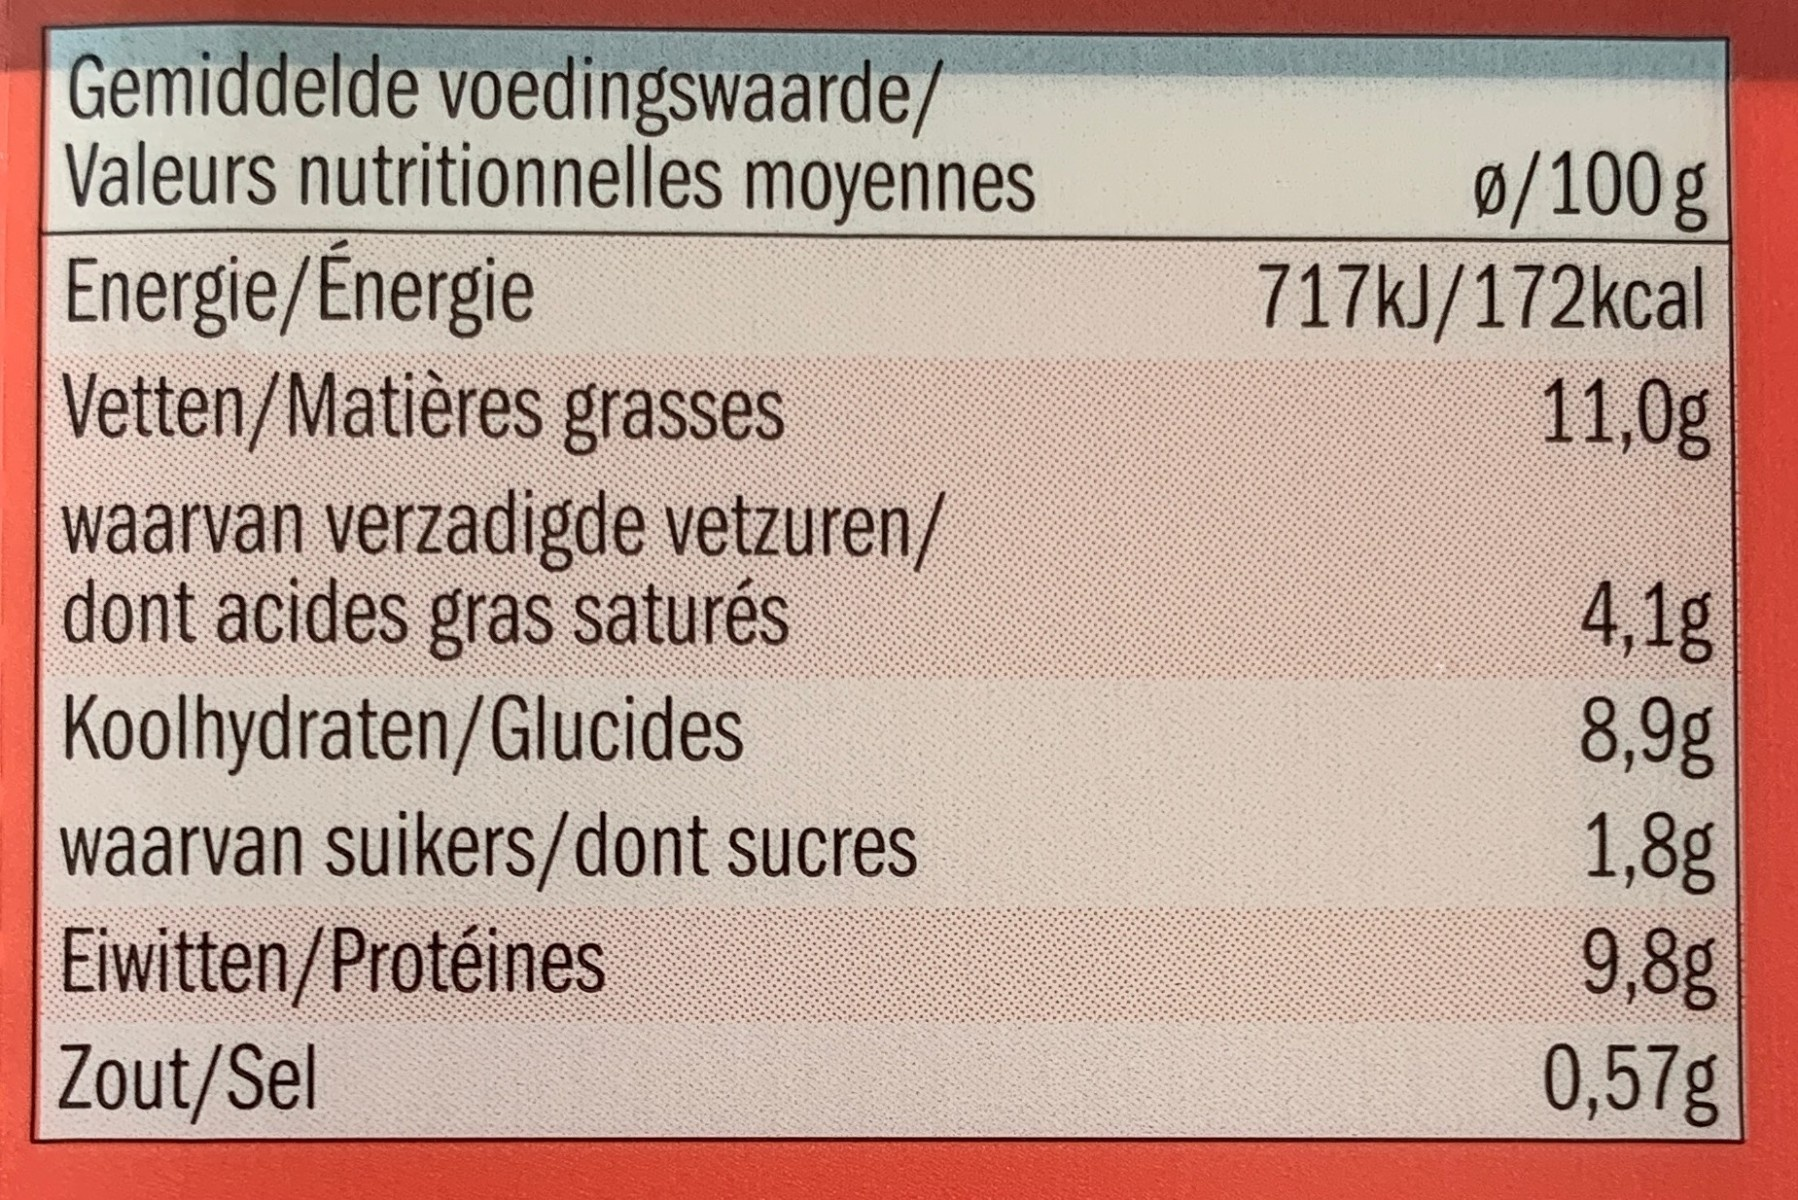column: (51, 33, 1098, 1118), (1221, 42, 1738, 1126)
table: (50, 24, 1752, 1134)
